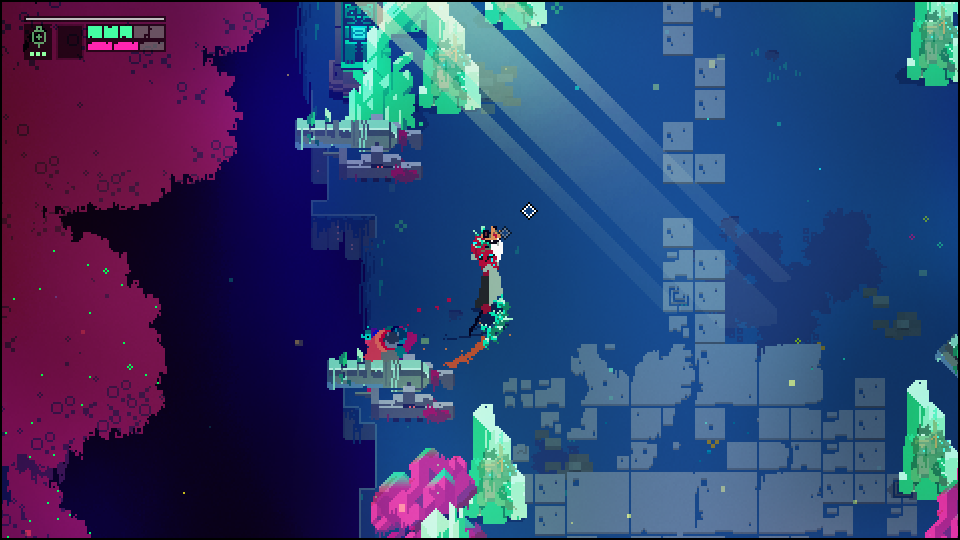hanged_man: (446, 222, 513, 362)
player: (362, 327, 409, 357)
